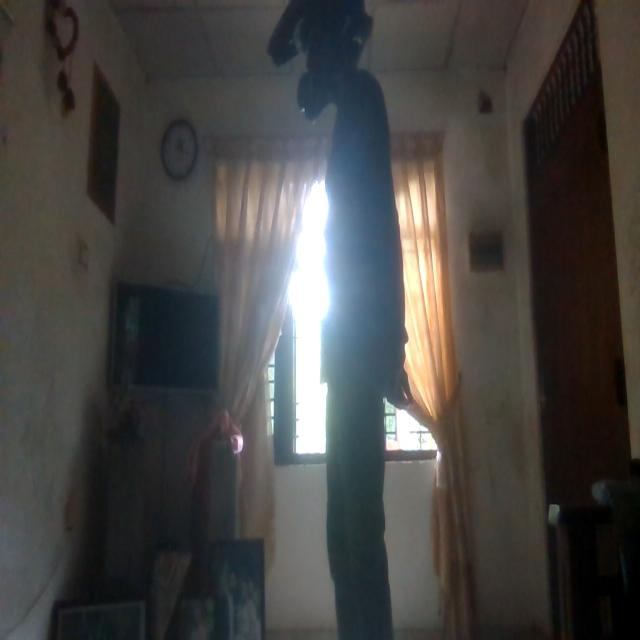Helmet_Wearer: (276, 0, 387, 111)
Person: (281, 0, 409, 640)
